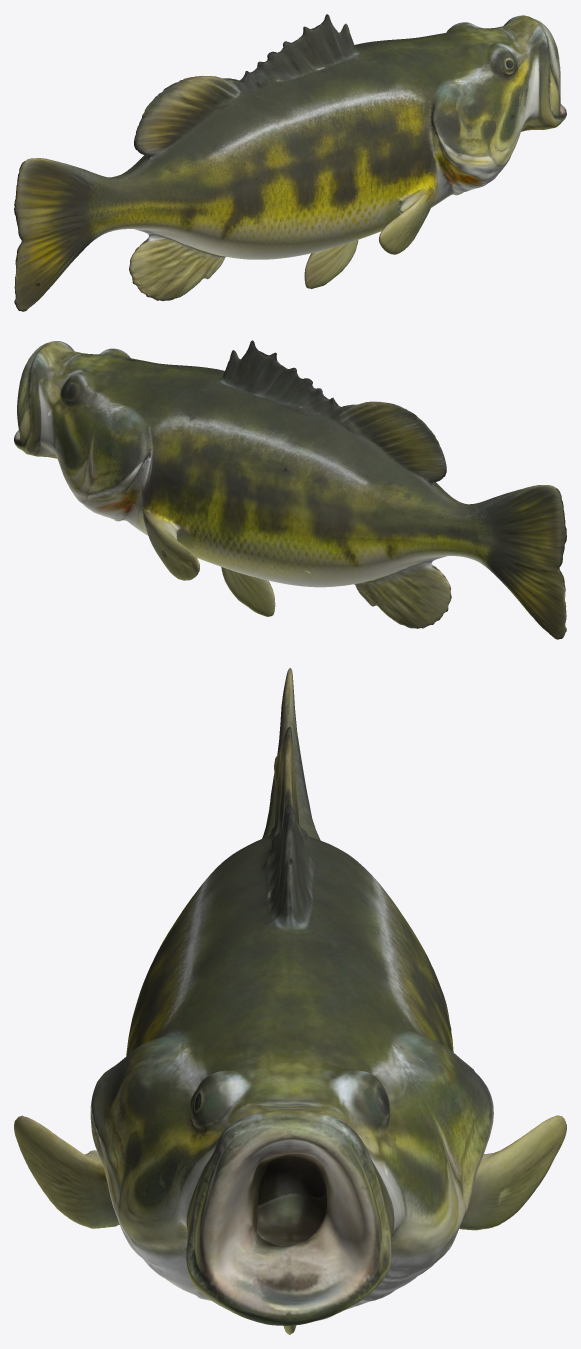
Rendered from largemouth.glb.
3 views of the same model, one above another, from view 1: azimuth 30°, elevation 25°; view 2: azimuth 150°, elevation 25°; view 3: azimuth 270°, elevation 25° (orthographic). The views are drawn at different scales.
Size of the model in its own units: 2 by 0.9508 by 0.9043.
Materials: 1 (1 with a texture image).
